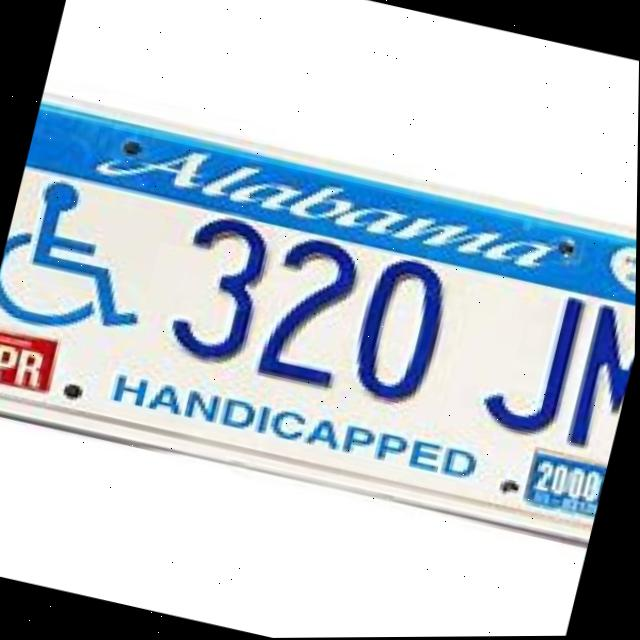symbol_of_access: (0, 171, 176, 354)
